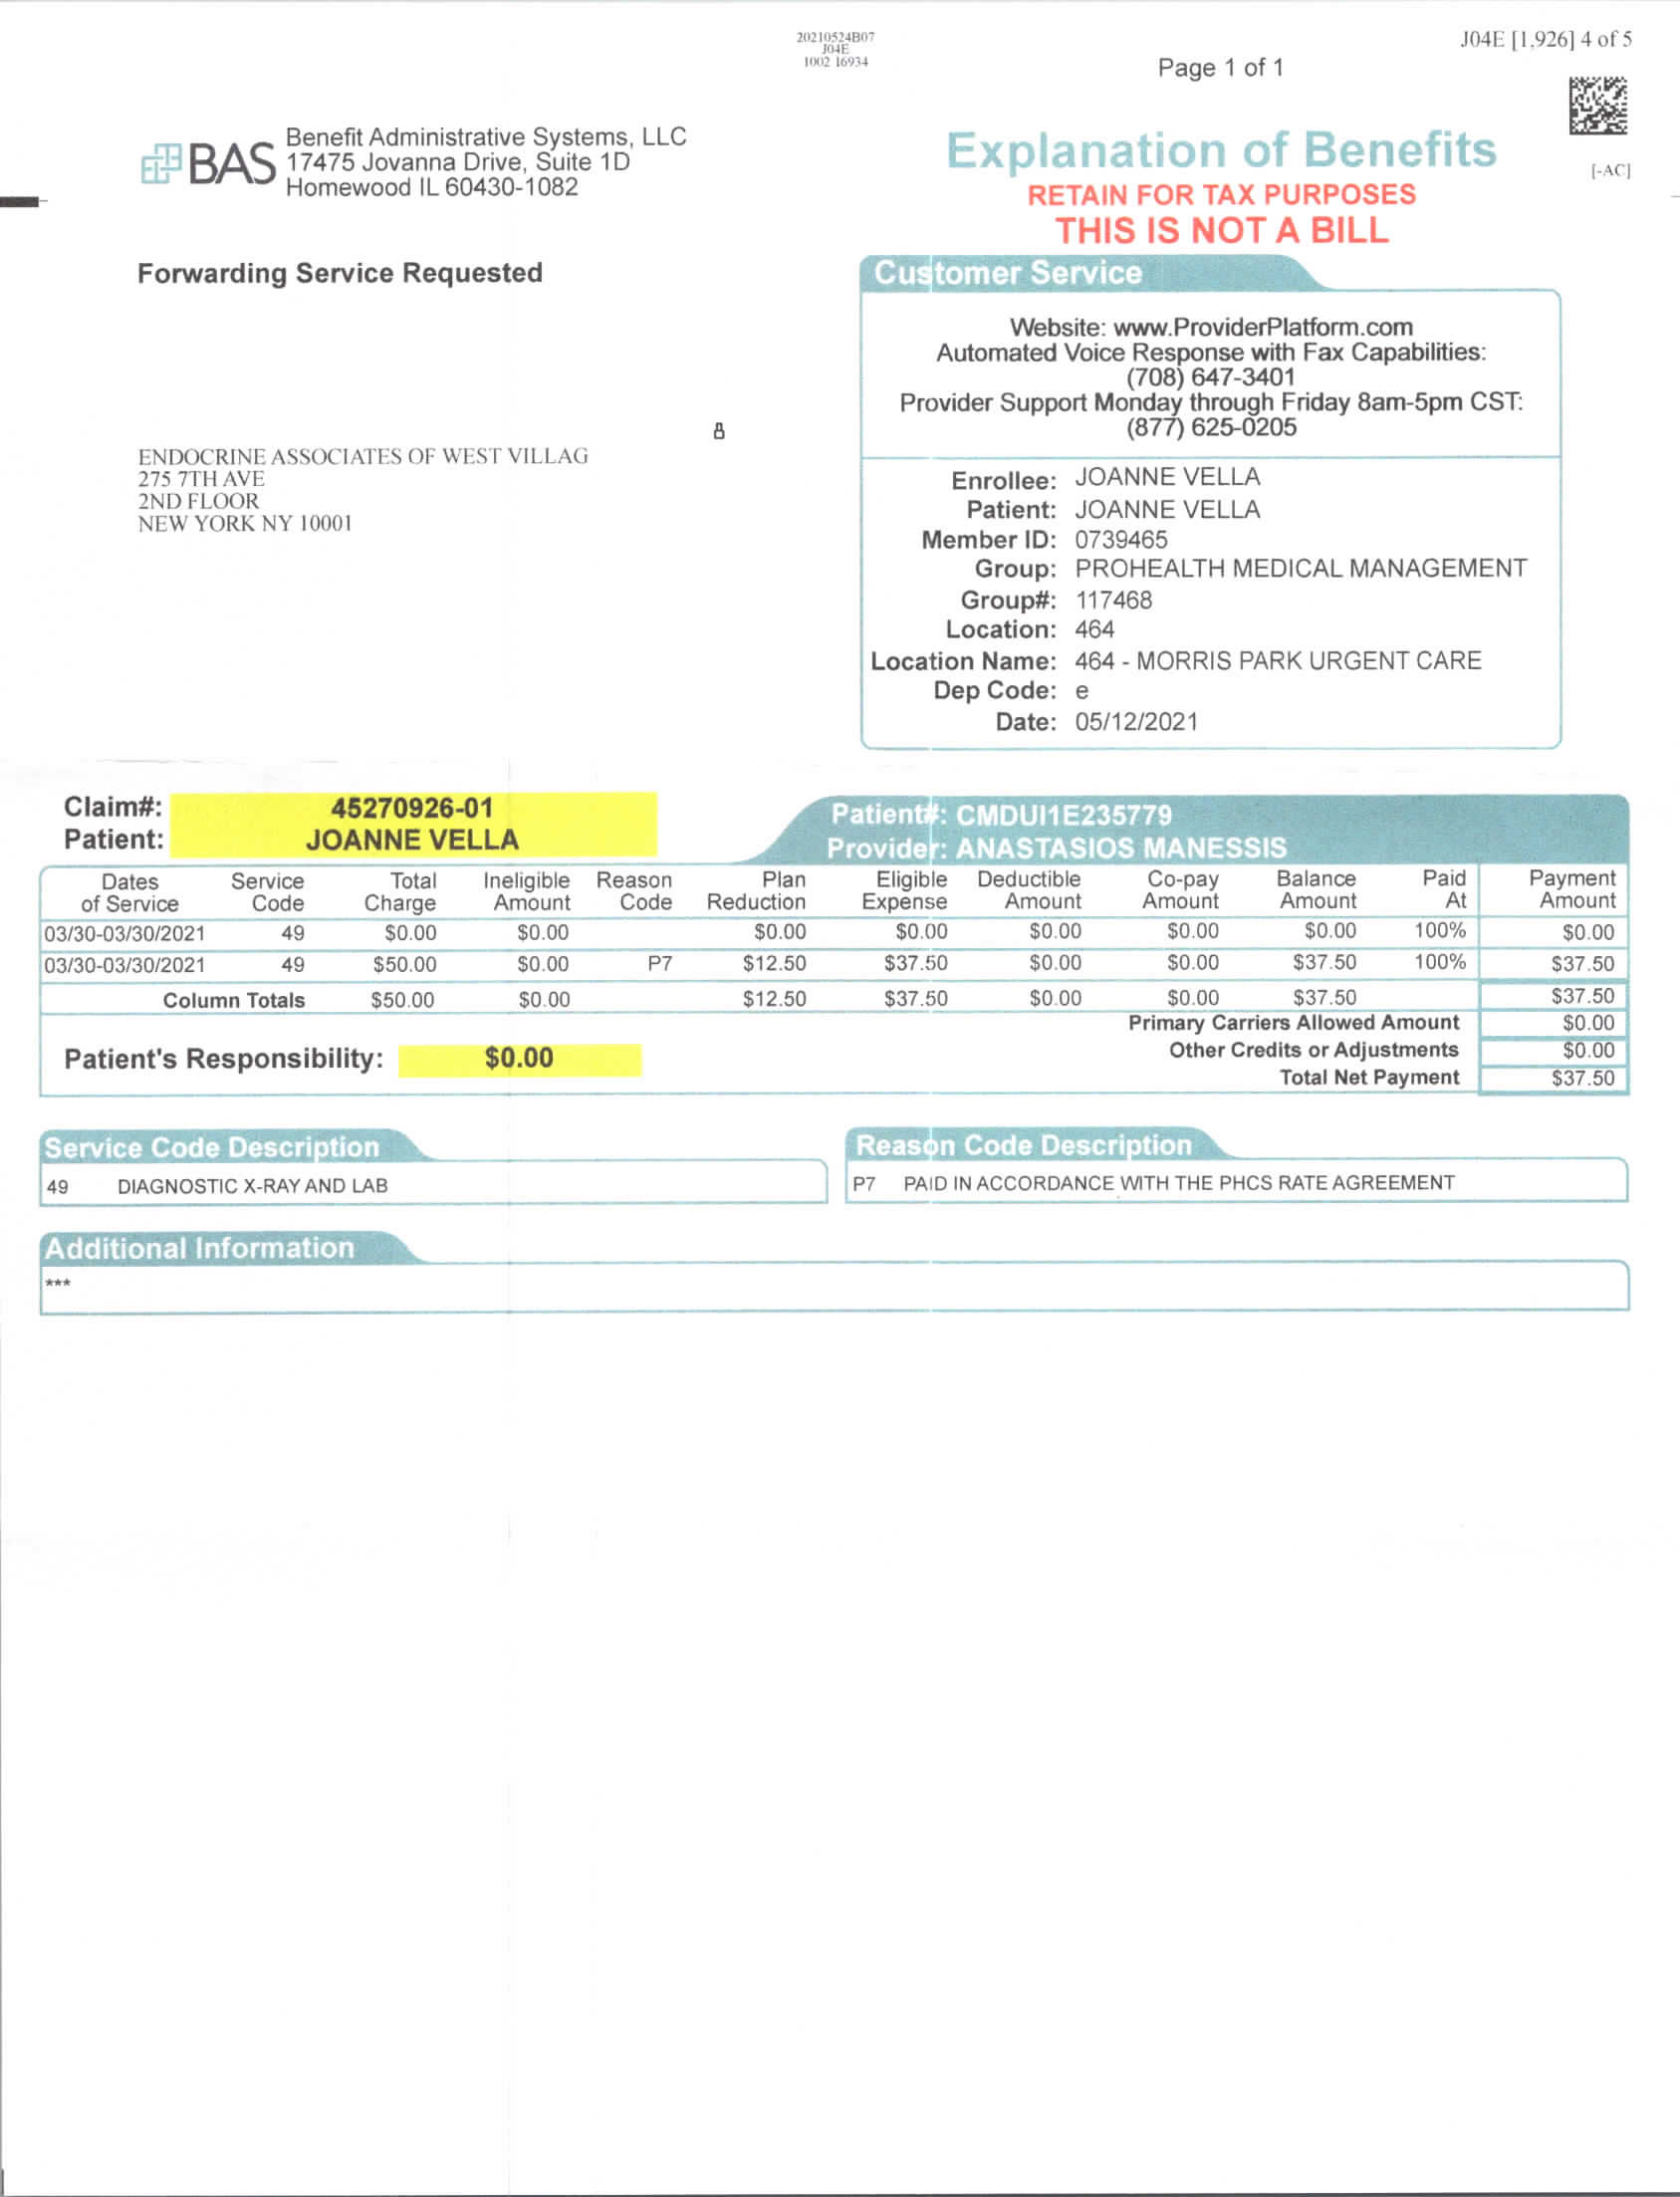data: (854, 244, 1581, 762), (49, 771, 669, 865), (819, 787, 1295, 859)
table: (34, 865, 1643, 1009)
